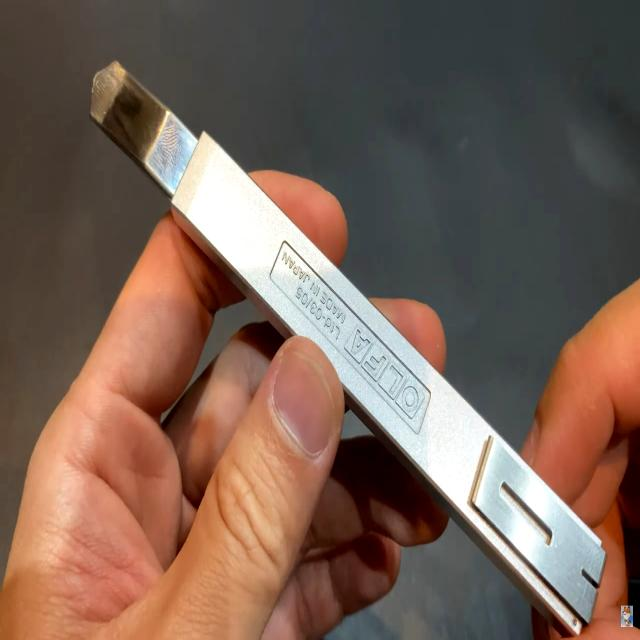cutter: (0, 36, 640, 640)
